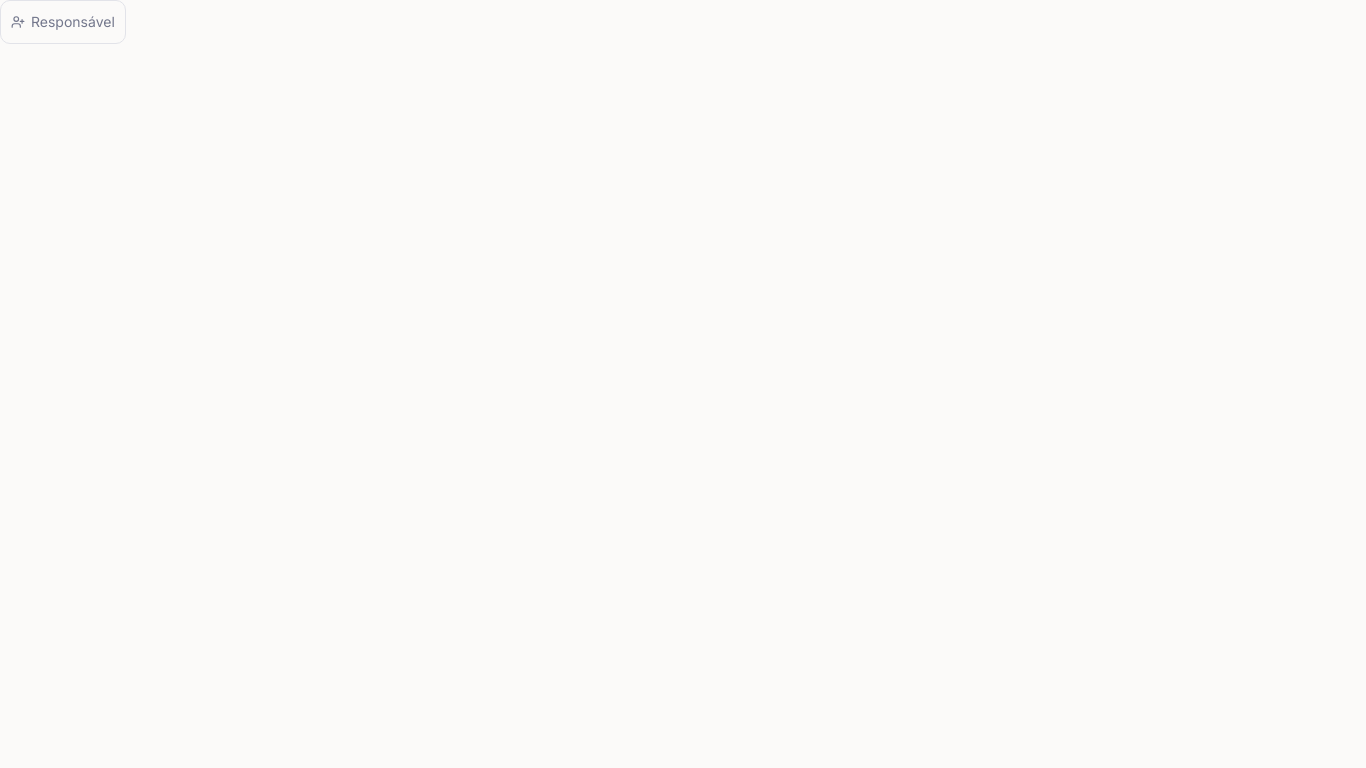
Test case: AssigneeChip › keeps the selector inside the visible viewport when the keyboard opens
Later steps or results of the test are not shown.
What coordinates should you click on to do the following:
click the button with aria-label "Responsável: Responsável"
I would click on:
 (63, 22)
Its box is [0, 0, 126, 44].
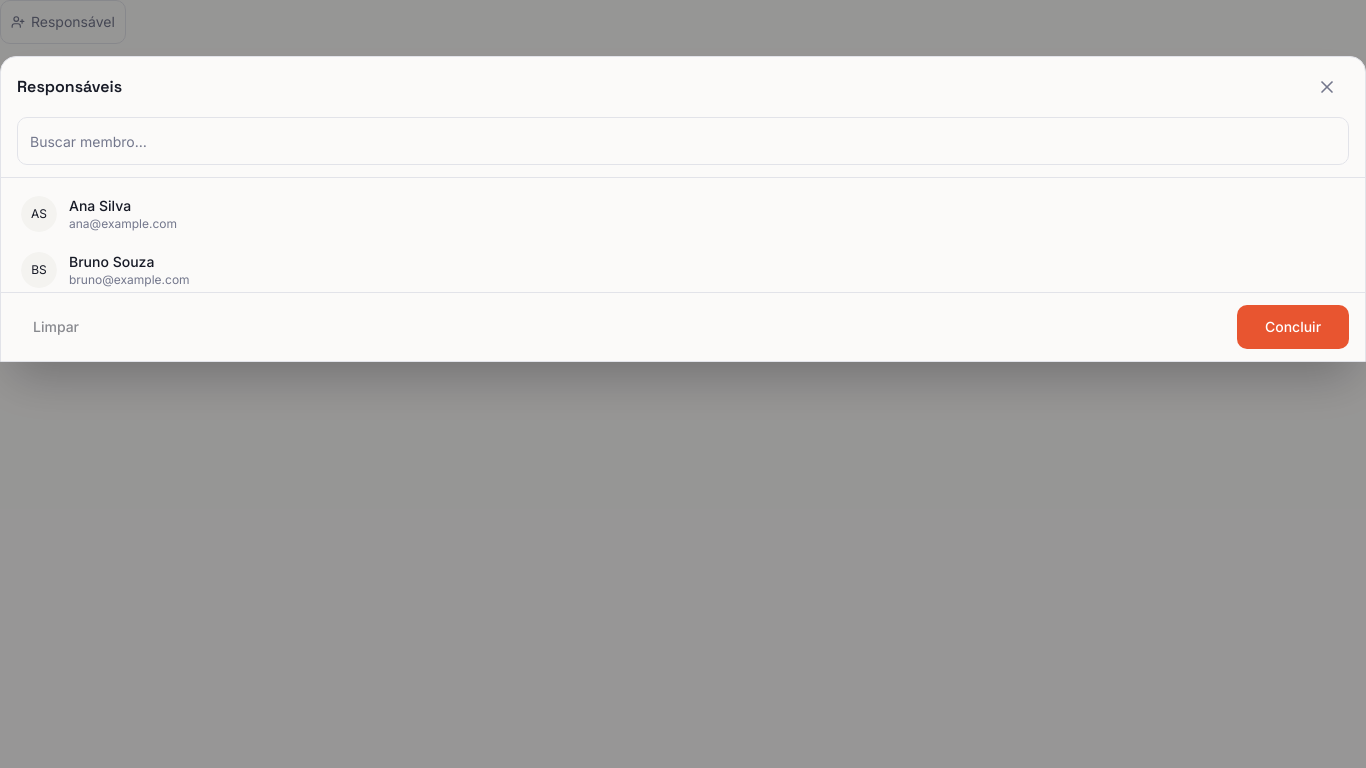
Now the field labelled "Buscar membro" is shown, box [17, 117, 1349, 165]
Now the button "Concluir" is shown, box [1237, 305, 1349, 349]
